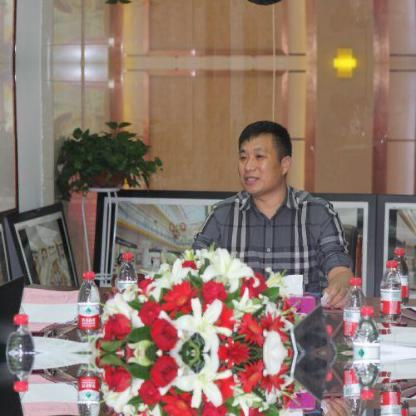No Safety Helmet: (232, 115, 296, 208)
